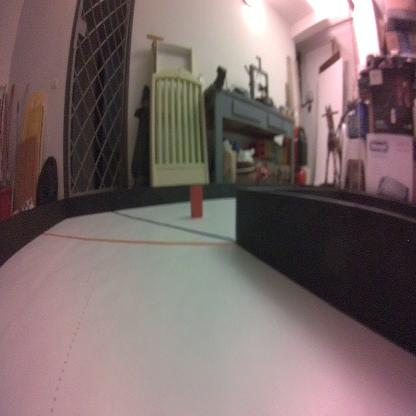red: (189, 184, 204, 218)
